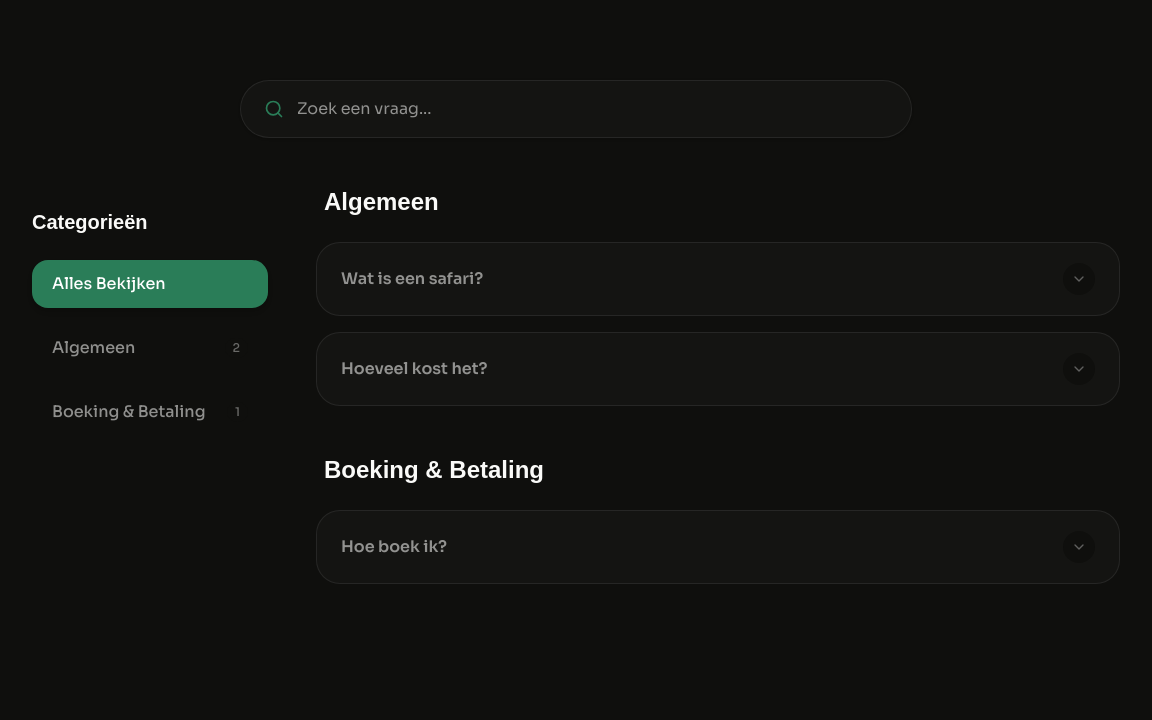
Scenario: FaqClient › search filters questions by text
Type "boek" into the field with placeholder "Zoek een vraag...".
click(576, 109); type("boek")  # box x1=240 y1=80 x2=912 y2=138
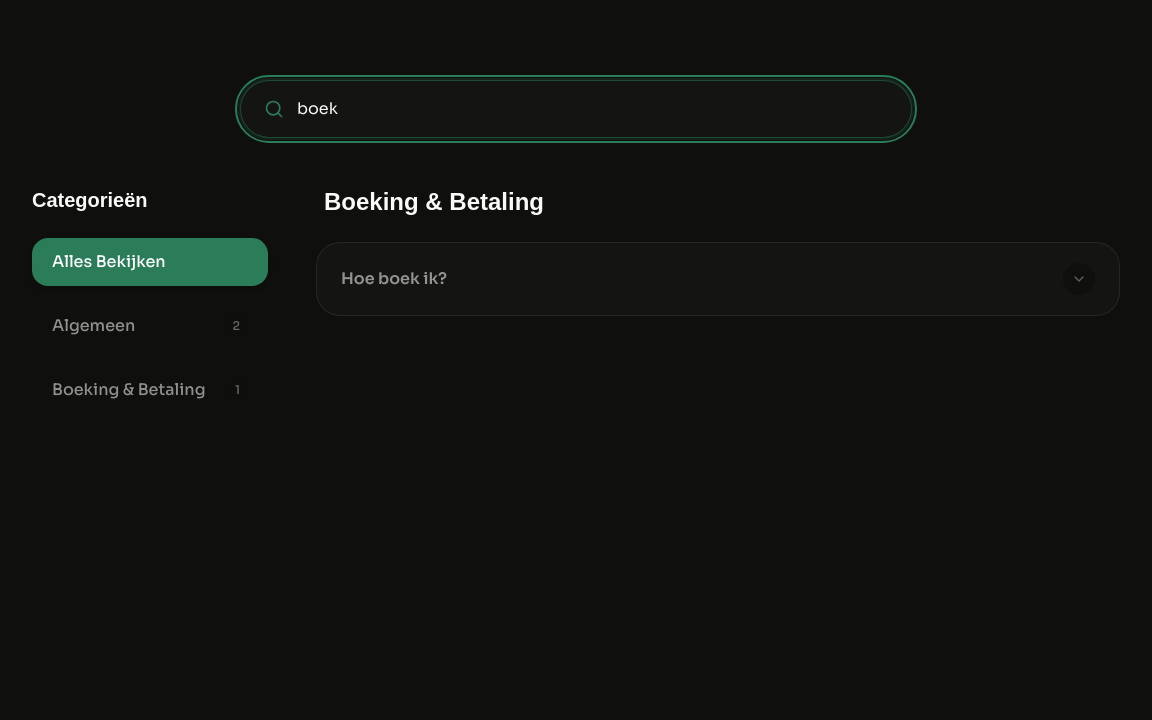
Expected: the text "Hoe boek ik?" is shown, x1=341 y1=268 x2=447 y2=289
Expected: the button "Wat is een safari?" is gone
Expected: the button "Hoeveel kost het?" is gone
